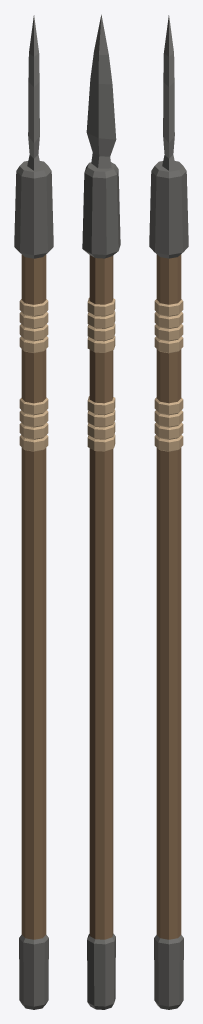
File: SM_pwe_egypt_spear_03.fbx
The picture shows the model from 3 angles, left to right: view 1: azimuth 90°, elevation 25°; view 2: azimuth 150°, elevation 25°; view 3: azimuth 270°, elevation 25°; orthographic projection.
Parts seen in each view (by area): view 1: SM_pwe_egypt_spear_03; view 2: SM_pwe_egypt_spear_03; view 3: SM_pwe_egypt_spear_03.
Part boxes in pixels (x1,y1,x2,y2): SM_pwe_egypt_spear_03: (14,15,53,1009); SM_pwe_egypt_spear_03: (82,14,120,1009); SM_pwe_egypt_spear_03: (149,15,188,1009).
Bounding box in the file's own units: 7.84 × 217 × 7.84.
